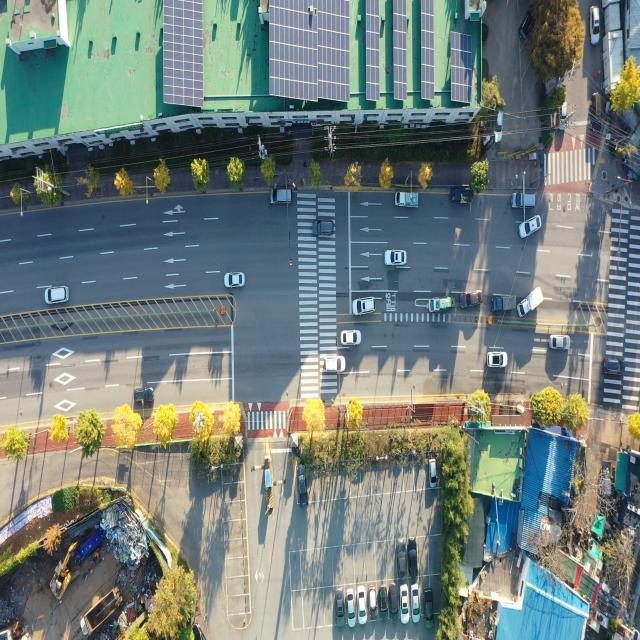car: (522, 215, 543, 239), (590, 92, 602, 133), (510, 194, 535, 212), (45, 286, 68, 304), (352, 296, 375, 314), (520, 12, 534, 41), (297, 462, 307, 502), (384, 249, 407, 266), (271, 187, 294, 204), (461, 291, 482, 309), (495, 106, 506, 140), (313, 219, 336, 235), (134, 386, 154, 404), (409, 541, 418, 579), (591, 8, 600, 46), (397, 542, 406, 578), (337, 591, 346, 627), (379, 583, 388, 619), (487, 352, 507, 368), (603, 358, 623, 374), (550, 336, 570, 352), (227, 272, 246, 288), (390, 584, 398, 622), (340, 332, 360, 347), (325, 357, 345, 372), (358, 587, 366, 623), (400, 586, 408, 622), (413, 588, 421, 624), (425, 589, 433, 624), (347, 590, 355, 624), (429, 458, 437, 488), (560, 101, 568, 130), (368, 588, 375, 617)
medium_truck: (79, 585, 124, 637)
small_truck: (518, 288, 544, 320), (491, 294, 514, 313), (394, 192, 418, 210), (450, 187, 474, 204), (428, 296, 452, 312)
